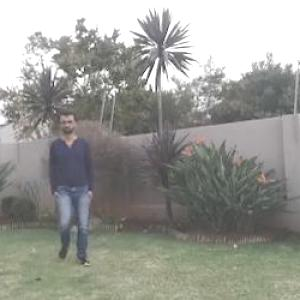follow: (50, 109, 95, 259)
